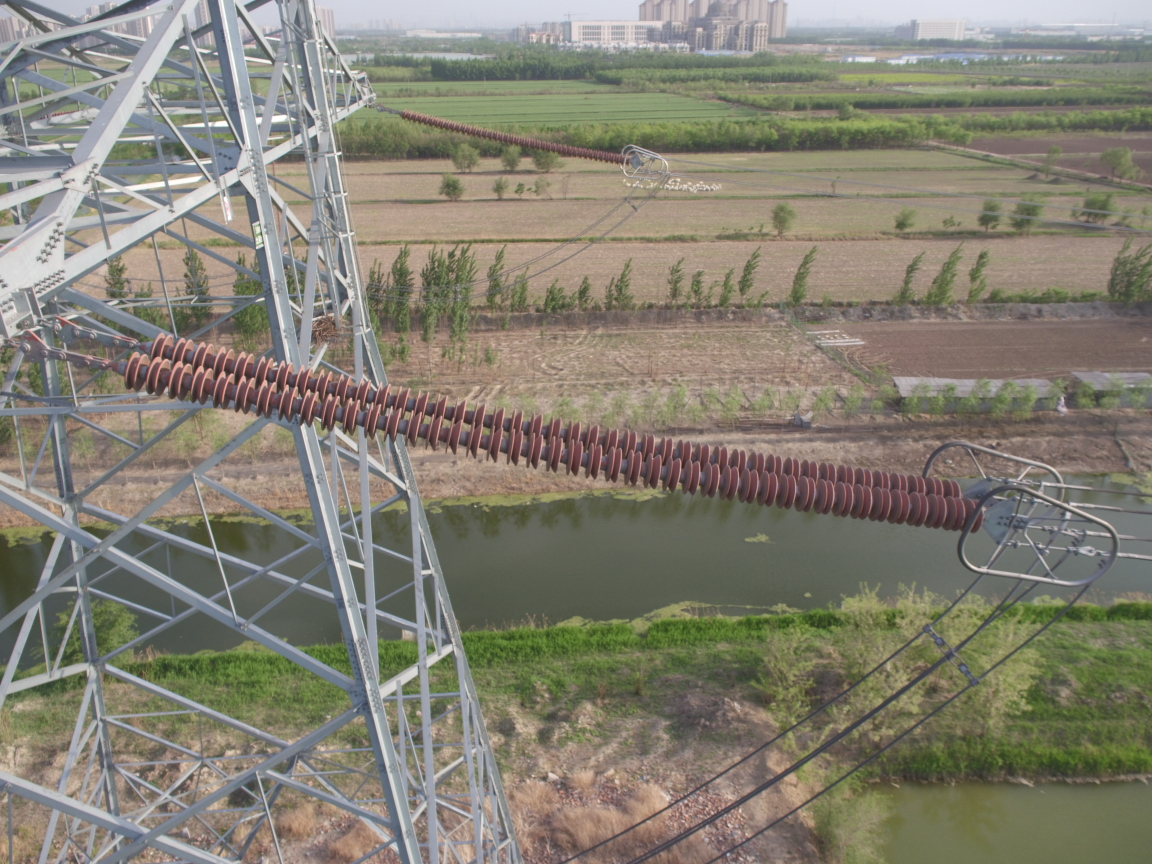insulator: (82, 331, 997, 536), (399, 108, 629, 165)
